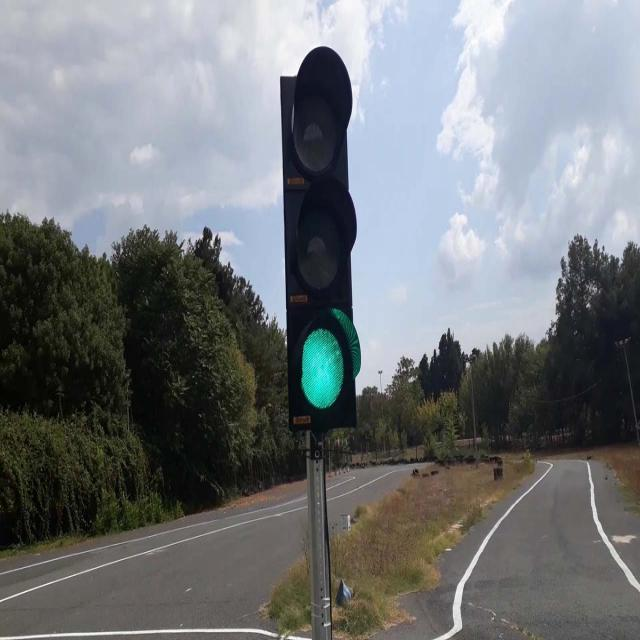yesil: (279, 51, 359, 428)
